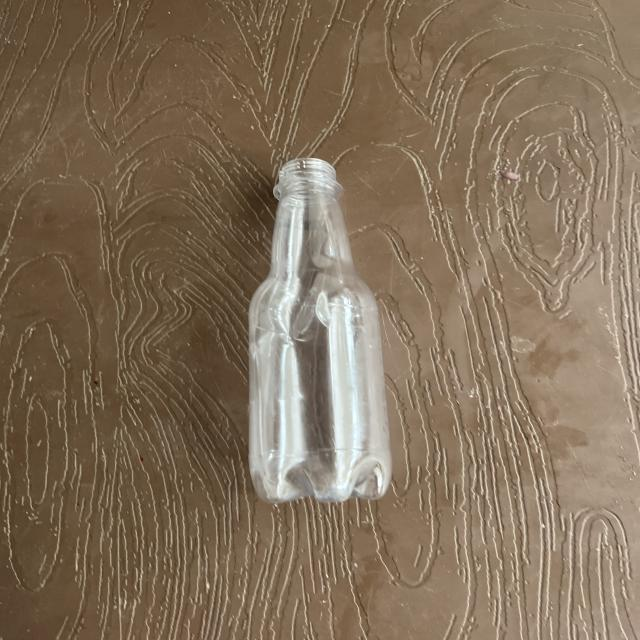PET_ClearBottle: (233, 152, 410, 628)
